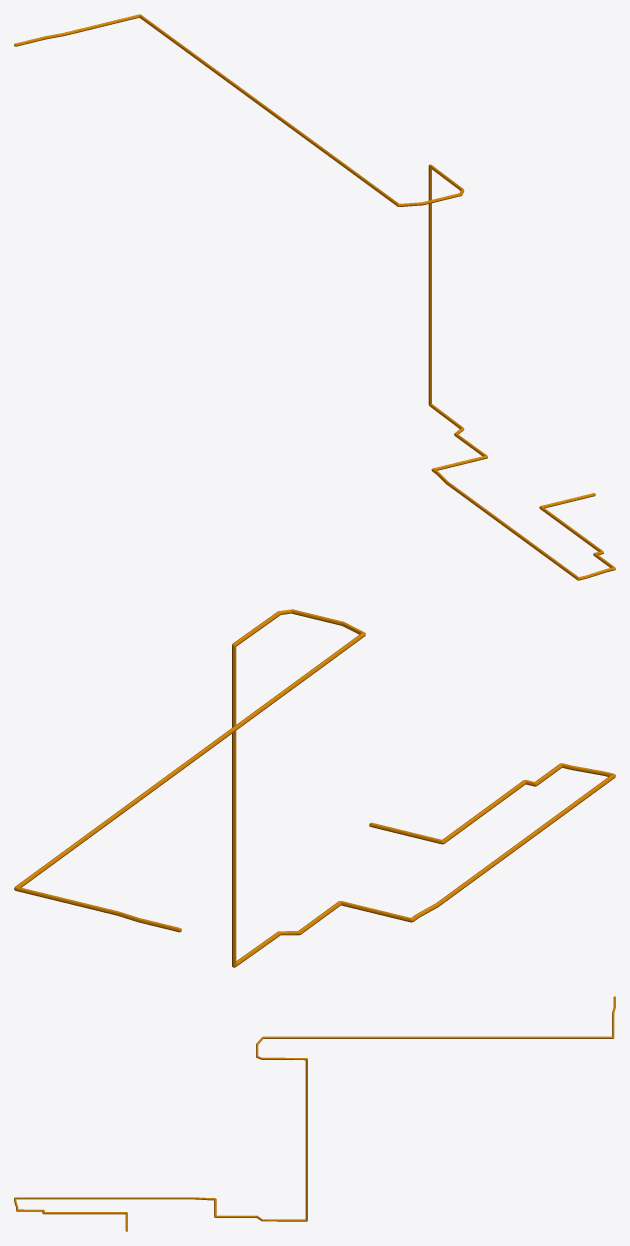
The picture shows the model from 3 angles, top to bottom: view 1: azimuth 30°, elevation 25°; view 2: azimuth 150°, elevation 25°; view 3: azimuth 270°, elevation 25°; orthographic projection. The views are drawn at different scales.
Size of the model in its own units: 1453 by 1520 by 5068.
